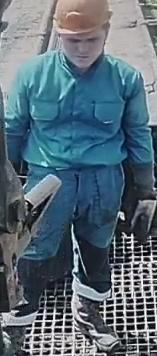gloves: (124, 196, 157, 245)
helmet: (52, 0, 109, 42)
vest: (0, 51, 157, 179)
